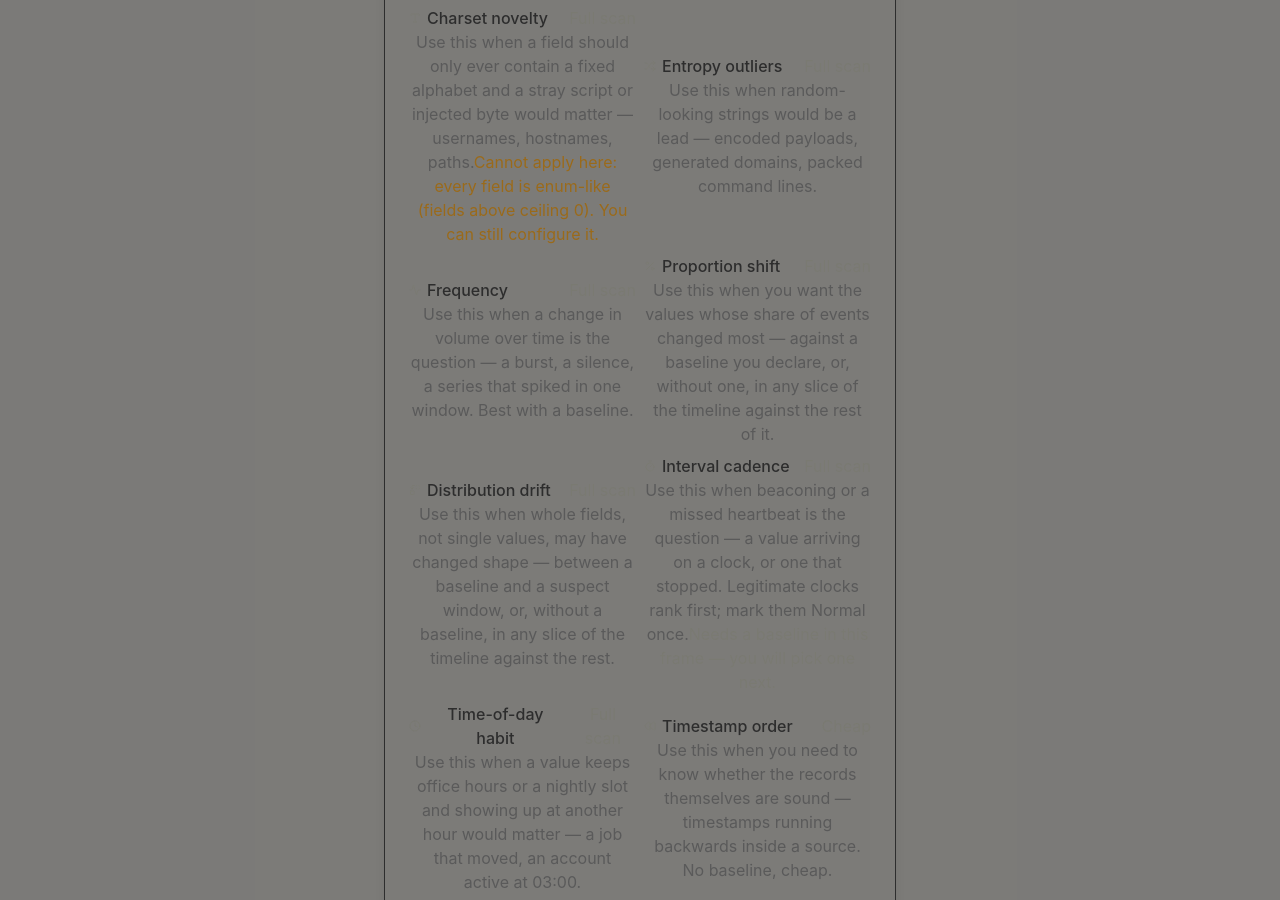
Test: DetectorWizard › still lets a not_applicable method be chosen
Click the button with test id "wizard-card-charset" at [522, 126], box [409,6,636,246]
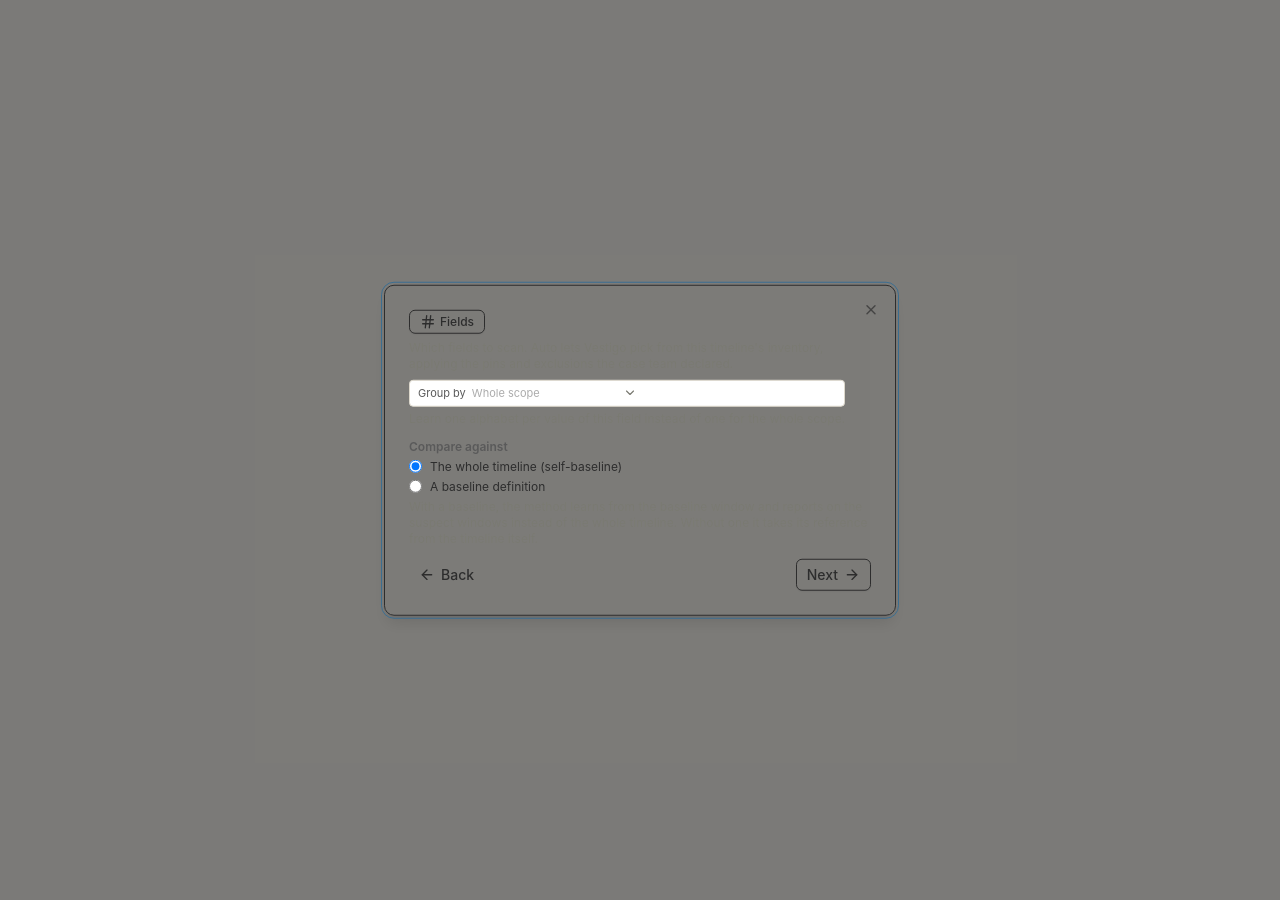
Check: the element with test id "wizard-step-configure" is shown, box [409,310,871,590]
